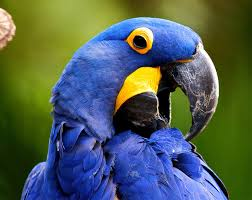guacamaya: (22, 17, 221, 200)
